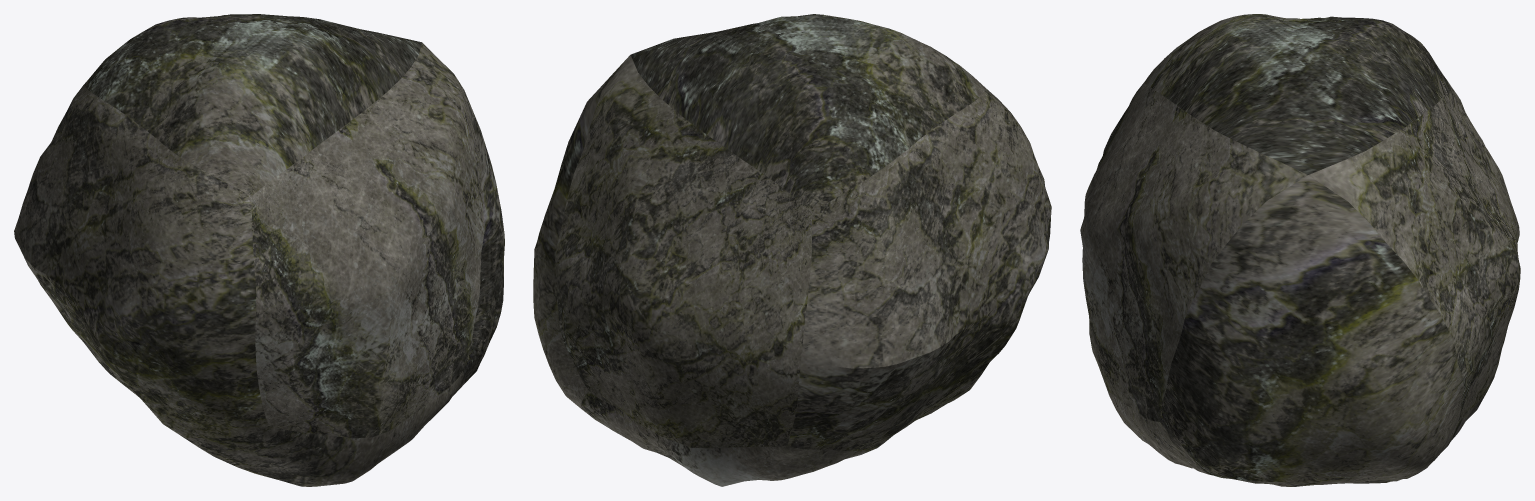
Rendered from Rock3.fbx.
3 renders of one model, left to right at view 1: azimuth 30°, elevation 25°; view 2: azimuth 150°, elevation 25°; view 3: azimuth 270°, elevation 25°, orthographic. The views are drawn at different scales.
Visible parts, largest first — view 1: rock.001; view 2: rock.001; view 3: rock.001.
Boxes of the visible parts, <box> form: rock.001: <box>14,14,504,486</box>; rock.001: <box>533,14,1051,486</box>; rock.001: <box>1080,14,1520,486</box>.
Size of the model in its own units: 101 by 98.28 by 93.83.
